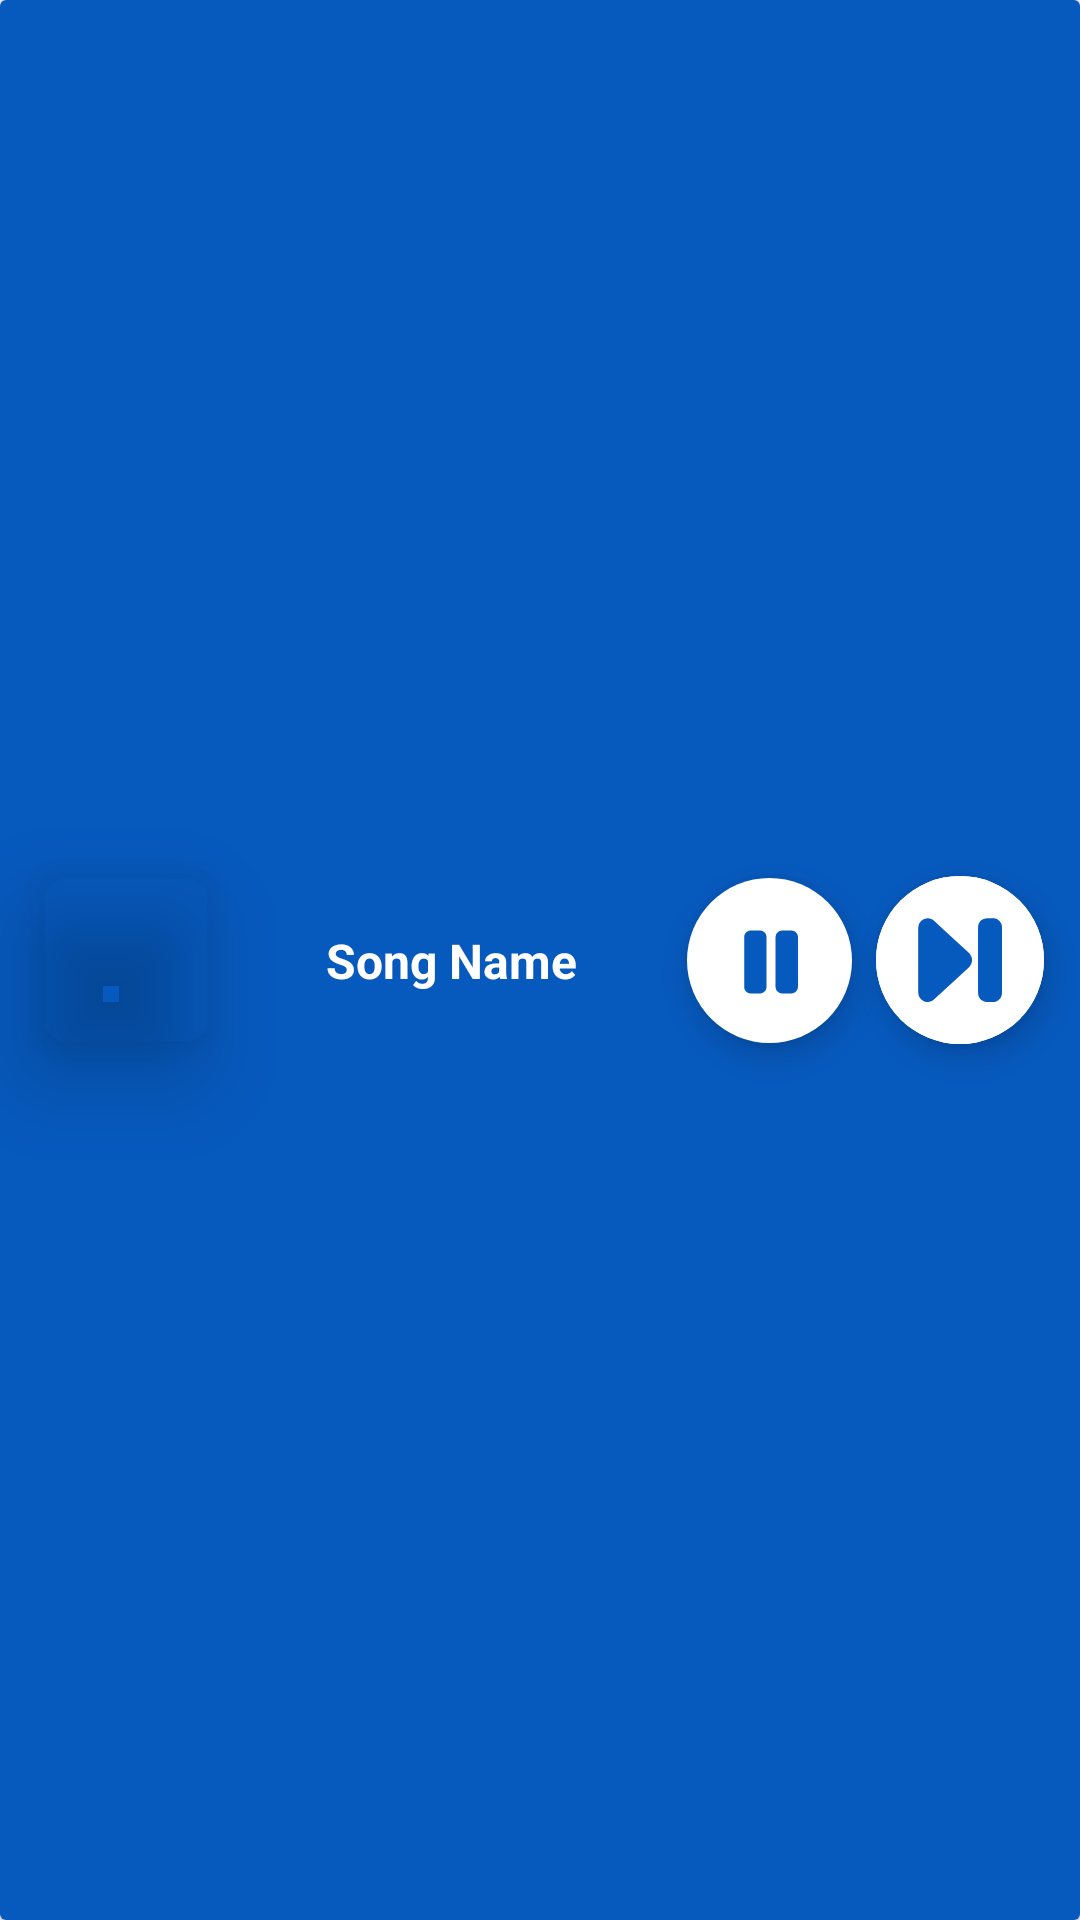

Where to tap for icons on this 1080 × 1920 app screen, as (x=x, y=y):
play next: (x=960, y=960)
play pause button: (x=769, y=960)
